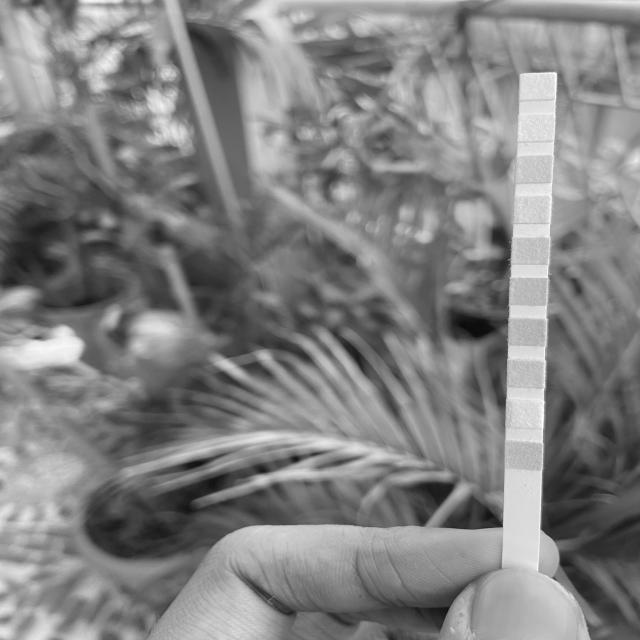Bilirubin: (508, 400, 544, 427)
Blood: (511, 278, 546, 304)
Glucose: (506, 442, 542, 470)
Ketone: (508, 362, 544, 386)
Leukocytes: (520, 76, 556, 100)
Nitrite: (519, 114, 554, 141)
Protein: (514, 197, 550, 223)
SpGravity: (509, 319, 545, 345)
Urobilinogen: (516, 156, 552, 182)
background: (0, 0, 640, 640)
pH: (513, 238, 547, 263)
strip: (502, 72, 557, 566)
